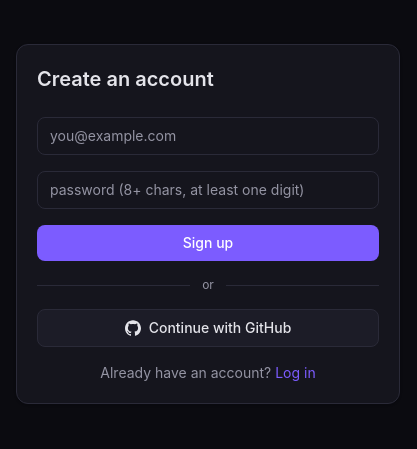
Test case: RegisterPage › shows the clickable suggestion under the submit error when registration fails with a suggestion
Type "alice@gmial.com" into the field with placeholder "you@example.com" at (208, 136), box [37, 117, 379, 155]
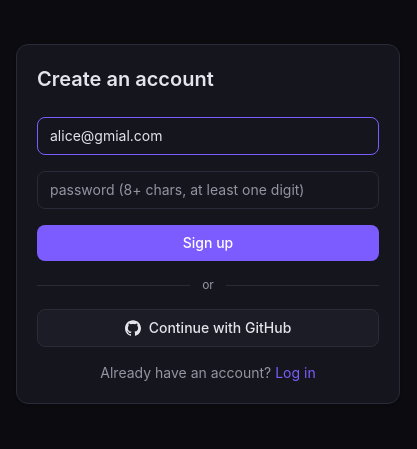
Type "password123" into the password field with placeholder "password (8+ chars, at least one digit)" at (208, 190), box [37, 171, 379, 209]
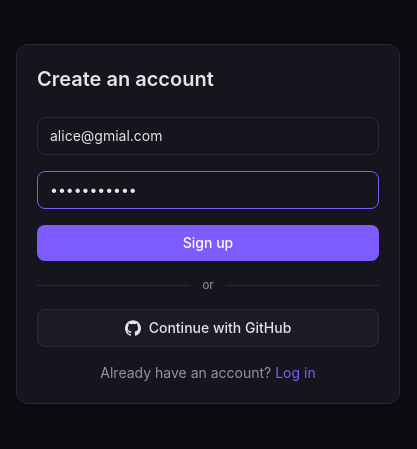
Click the button "Sign up" at (208, 243), box [37, 225, 379, 261]
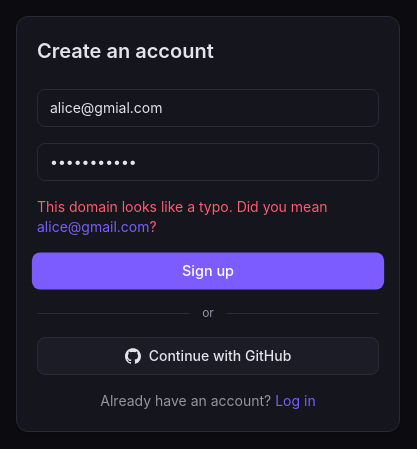
Check: the text "This domain looks like a typo" is shown, box [37, 198, 233, 215]
Check: the button "alice@gmail.com" is shown, box [37, 217, 150, 237]
